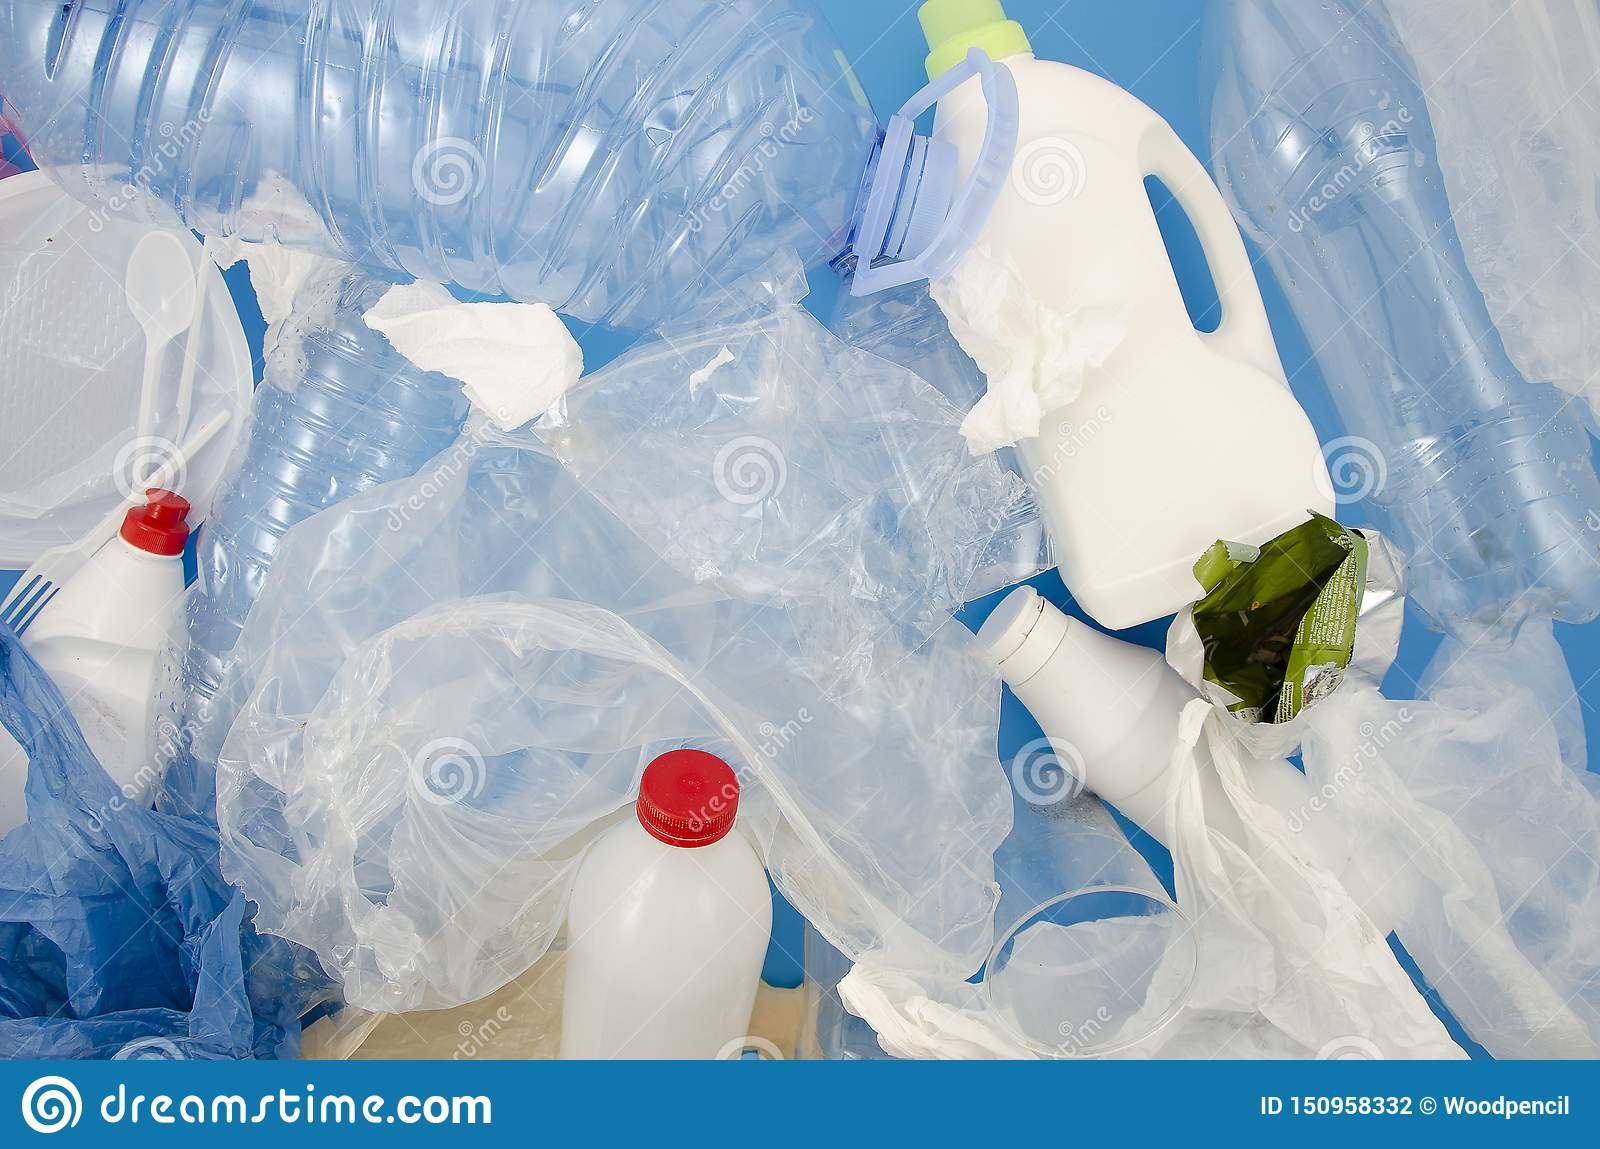plastic_bottle: (793, 2, 1453, 832), (5, 1, 1103, 489), (897, 406, 1480, 1032), (1138, 2, 1600, 707), (111, 147, 566, 802), (458, 651, 1006, 1104), (12, 406, 330, 961)
